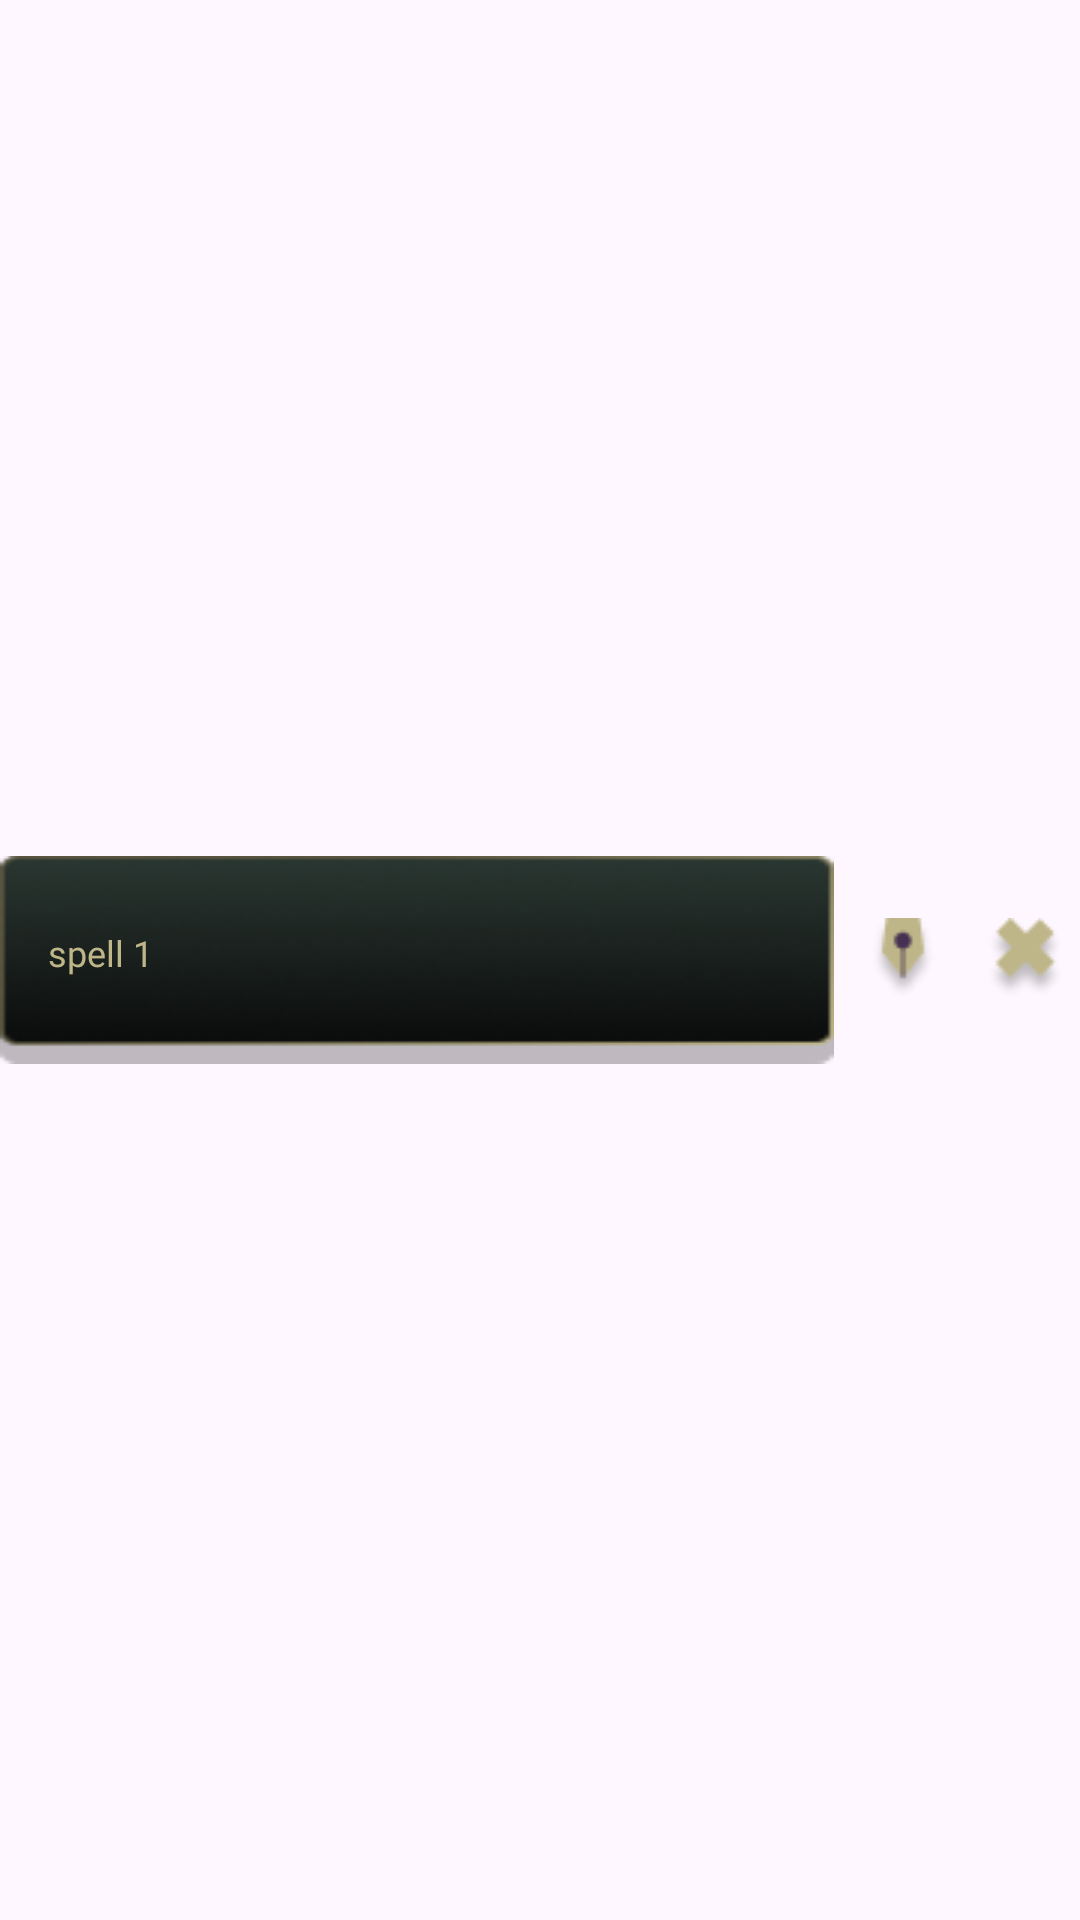

Point at icon controls on the screen. Image size 1080 x 1920, points as (x,y).
delete: (1025,952)
edit: (903,952)
